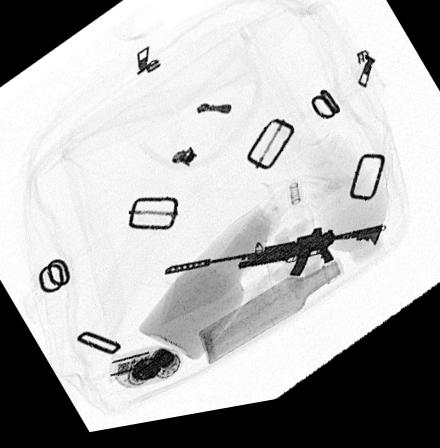Gun: (163, 237, 383, 288)
